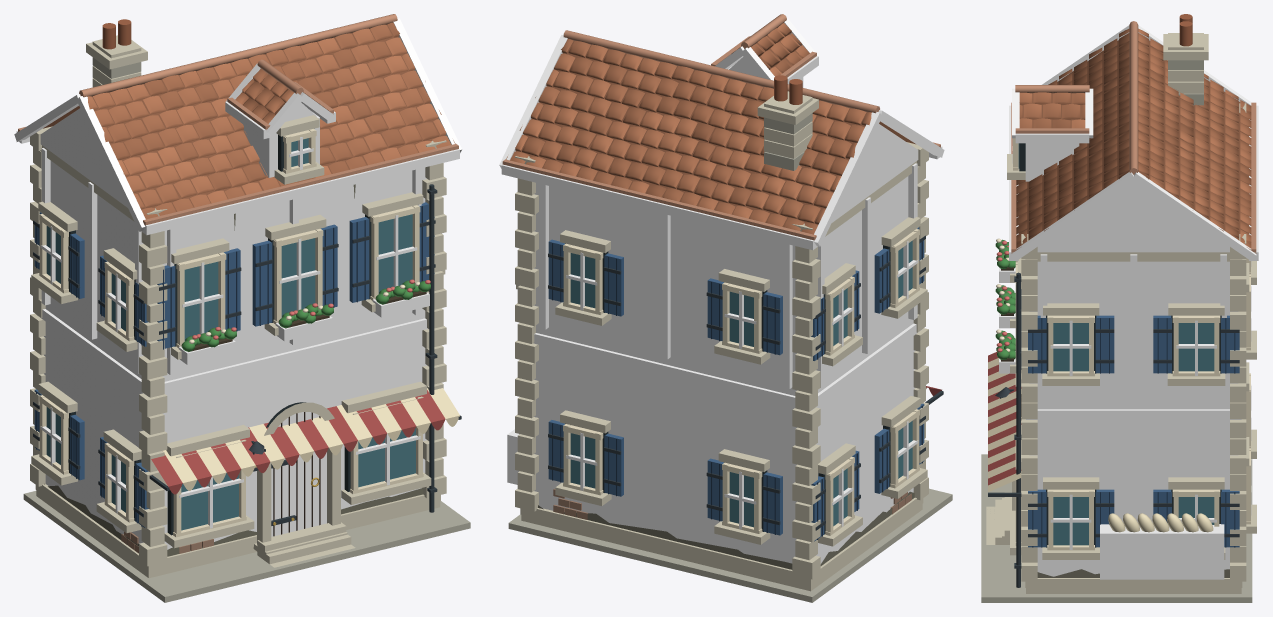
Rendered from baker_house.glb.
3 views of the same model, side by side, from view 1: azimuth 30°, elevation 25°; view 2: azimuth 150°, elevation 25°; view 3: azimuth 270°, elevation 25° (orthographic). The views are drawn at different scales.
Visible parts, largest first — view 1: SourceMesh_00005, SourceMesh_00097, SourceMesh_00000, SourceMesh_00088, SourceMesh_00084, SourceMesh_00151, SourceMesh_00006, SourceMesh_00089, SourceMesh_00091, SourceMesh_00001, SourceMesh_00090, SourceMesh_00241 (+42 smaller); view 2: SourceMesh_00005, SourceMesh_00097, SourceMesh_00085, SourceMesh_00000, SourceMesh_00006, SourceMesh_00084, SourceMesh_00086, SourceMesh_00091, SourceMesh_00001, SourceMesh_00087, SourceMesh_00144, SourceMesh_00092 (+36 smaller); view 3: SourceMesh_00005, SourceMesh_00097, SourceMesh_00094, SourceMesh_00562, SourceMesh_00000, SourceMesh_00085, SourceMesh_00144, SourceMesh_00088, SourceMesh_00084, SourceMesh_00006, SourceMesh_00007, SourceMesh_00095 (+41 smaller).
Boxes of the visible parts, x1=… form: SourceMesh_00005: x1=44, y1=161, x2=426, y2=549; SourceMesh_00097: x1=87, y1=22, x2=455, y2=219; SourceMesh_00000: x1=23, y1=491, x2=470, y2=602; SourceMesh_00088: x1=92, y1=24, x2=445, y2=211; SourceMesh_00084: x1=36, y1=309, x2=427, y2=396; SourceMesh_00151: x1=271, y1=412, x2=326, y2=536; SourceMesh_00006: x1=35, y1=484, x2=440, y2=572; SourceMesh_00089: x1=142, y1=149, x2=459, y2=235; SourceMesh_00091: x1=40, y1=108, x2=127, y2=207; SourceMesh_00001: x1=36, y1=490, x2=440, y2=578; SourceMesh_00090: x1=143, y1=144, x2=458, y2=225; SourceMesh_00241: x1=281, y1=238, x2=315, y2=317; SourceMesh_00005: x1=534, y1=176, x2=915, y2=563; SourceMesh_00097: x1=506, y1=39, x2=871, y2=234; SourceMesh_00085: x1=516, y1=41, x2=867, y2=226; SourceMesh_00000: x1=508, y1=488, x2=952, y2=602; SourceMesh_00006: x1=520, y1=497, x2=923, y2=585; SourceMesh_00084: x1=533, y1=323, x2=922, y2=410; SourceMesh_00086: x1=501, y1=164, x2=817, y2=250; SourceMesh_00091: x1=832, y1=124, x2=918, y2=222; SourceMesh_00001: x1=521, y1=504, x2=922, y2=591; SourceMesh_00087: x1=502, y1=159, x2=816, y2=240; SourceMesh_00144: x1=731, y1=23, x2=809, y2=76; SourceMesh_00092: x1=814, y1=112, x2=881, y2=246; SourceMesh_00005: x1=1029, y1=261, x2=1237, y2=576; SourceMesh_00097: x1=1016, y1=28, x2=1251, y2=250; SourceMesh_00094: x1=1037, y1=181, x2=1229, y2=252; SourceMesh_00562: x1=1100, y1=524, x2=1224, y2=579; SourceMesh_00000: x1=981, y1=454, x2=1252, y2=602; SourceMesh_00085: x1=1138, y1=40, x2=1248, y2=240; SourceMesh_00144: x1=1019, y1=92, x2=1085, y2=128; SourceMesh_00088: x1=1018, y1=40, x2=1129, y2=240; SourceMesh_00084: x1=1026, y1=409, x2=1241, y2=419; SourceMesh_00006: x1=1025, y1=578, x2=1242, y2=587; SourceMesh_00007: x1=1025, y1=252, x2=1241, y2=261; SourceMesh_00095: x1=1132, y1=172, x2=1256, y2=260.
Bounding box in the file's own units: 6.46 × 9.12 × 4.91.
